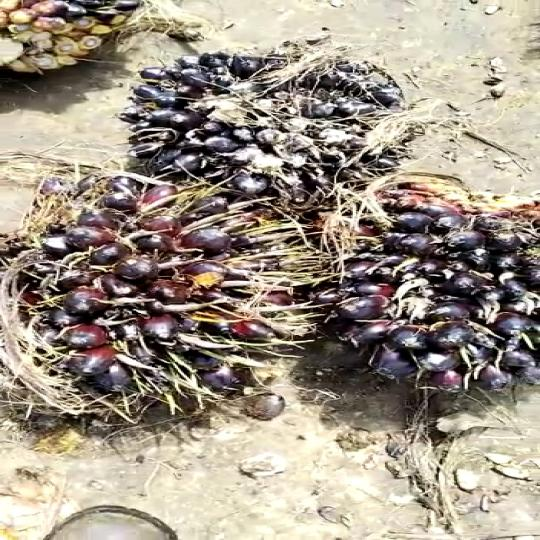mentah: (0, 175, 304, 445), (273, 178, 540, 433), (97, 28, 449, 211)
